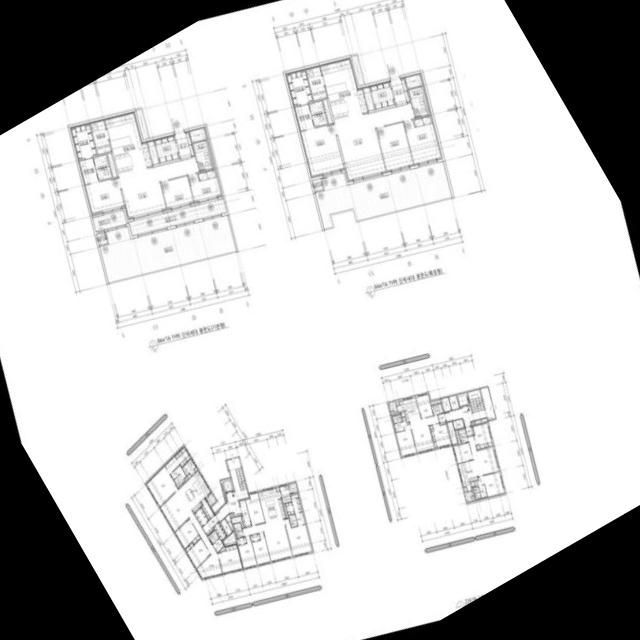background: (0, 0, 640, 640)
space_balconi: (92, 198, 226, 236), (205, 493, 216, 506), (288, 482, 297, 493)
space_bedroom: (299, 124, 344, 178), (403, 115, 442, 165), (376, 122, 413, 172), (84, 177, 124, 215), (145, 465, 177, 507), (188, 169, 222, 203), (160, 176, 193, 209), (284, 518, 312, 556), (174, 519, 200, 549), (184, 538, 210, 568), (217, 543, 242, 574), (396, 421, 416, 457), (477, 472, 504, 497), (245, 492, 264, 525), (238, 535, 257, 568), (252, 532, 270, 565), (429, 423, 451, 448), (473, 423, 493, 449), (415, 393, 433, 418), (453, 443, 472, 463), (236, 537, 246, 545), (250, 533, 260, 541)
space_dressroom: (69, 123, 97, 160), (285, 69, 312, 106), (174, 446, 191, 467), (290, 493, 301, 513), (285, 502, 294, 515)
space_elevator: (220, 478, 233, 493), (456, 392, 469, 407)
space_elevator_hall: (215, 458, 248, 521), (444, 405, 486, 426)
space_front: (389, 77, 410, 105), (174, 131, 194, 158), (239, 499, 251, 527), (202, 515, 218, 535), (194, 507, 208, 526), (213, 522, 227, 541), (437, 413, 445, 424), (465, 427, 474, 436)
space_kitchen: (104, 111, 152, 175), (320, 58, 368, 122), (179, 470, 211, 513), (257, 487, 286, 523), (457, 460, 478, 490), (397, 396, 420, 422)
space_living_room: (334, 103, 414, 182), (160, 489, 222, 579), (118, 156, 198, 219), (242, 519, 292, 562), (467, 436, 499, 475), (409, 415, 439, 453)
space_multipurpose_space: (89, 119, 111, 155), (305, 65, 327, 101)
space_other: (153, 135, 179, 163), (369, 81, 394, 109), (480, 387, 495, 420), (135, 109, 148, 139), (351, 55, 364, 85), (362, 86, 374, 110), (201, 498, 214, 520), (147, 140, 158, 164), (189, 127, 206, 142), (405, 73, 421, 88), (182, 458, 196, 475), (447, 421, 457, 444), (279, 484, 291, 503), (107, 153, 116, 177), (323, 99, 332, 123), (220, 518, 232, 535), (223, 531, 236, 544), (448, 395, 459, 410), (441, 397, 451, 412), (225, 514, 233, 531), (231, 516, 243, 527), (452, 419, 464, 429), (388, 401, 397, 413), (464, 491, 473, 502), (456, 430, 461, 444), (475, 418, 486, 424), (283, 504, 288, 517), (430, 400, 440, 405), (184, 474, 191, 481), (218, 546, 225, 552), (224, 494, 227, 502), (275, 486, 279, 491), (401, 417, 405, 421), (463, 487, 467, 491), (194, 467, 197, 472), (471, 496, 474, 501), (474, 481, 477, 486), (229, 513, 234, 516), (471, 421, 474, 425), (396, 401, 399, 405), (390, 411, 394, 414)
space_outdoor_room: (311, 178, 323, 191), (96, 232, 107, 245)
space_staircase: (467, 389, 484, 413), (235, 468, 246, 491)
space_toilet: (78, 154, 112, 184), (293, 101, 327, 131), (192, 140, 213, 171), (408, 86, 428, 117), (170, 465, 186, 488), (164, 456, 179, 473), (392, 414, 404, 432), (473, 485, 487, 499), (233, 522, 243, 538), (212, 538, 223, 552), (431, 403, 443, 415), (458, 429, 468, 443), (295, 512, 304, 525), (211, 530, 218, 541), (208, 533, 215, 544), (288, 514, 296, 521), (290, 520, 297, 527)
